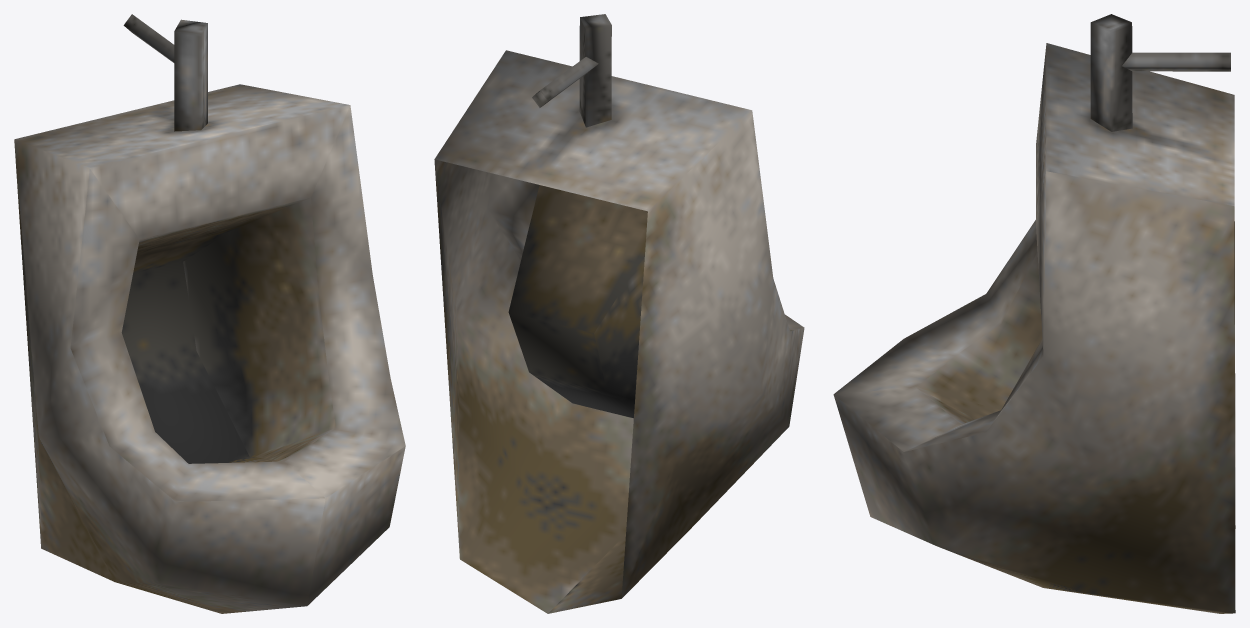
Rendered from urinal.fbx.
The picture shows the model from 3 angles, left to right: view 1: azimuth 30°, elevation 25°; view 2: azimuth 150°, elevation 25°; view 3: azimuth 270°, elevation 25°; orthographic projection. The views are drawn at different scales.
Parts seen in each view (by area): view 1: pissoir; view 2: pissoir; view 3: pissoir.
Boxes of the visible parts, x1=… form: pissoir: x1=14, y1=14, x2=405, y2=613; pissoir: x1=434, y1=14, x2=804, y2=613; pissoir: x1=833, y1=14, x2=1235, y2=613.
Bounding box in the file's own units: 46.42 × 81.37 × 49.98.
1 material, 1 textured.
